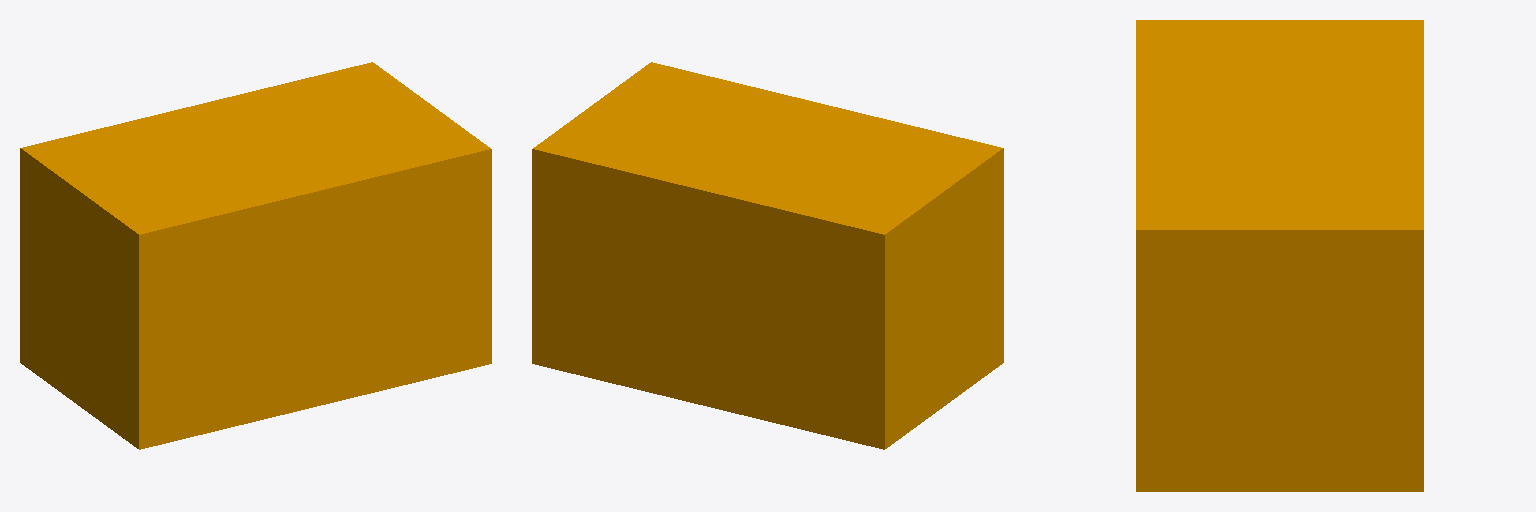
robot.urdf — girona500:
<?xml version="1.0"?>
<robot name="girona500">

  <!-- Base link -->
  <link name="base_link">
    <inertial>
      <mass value="160.0"/>
      <origin xyz="0 0 0" rpy="0 0 0"/>
      <inertia ixx="20.0" ixy="0.0" ixz="0.0" iyy="40.0" iyz="0.0" izz="40.0"/>
    </inertial>
    <visual>
      <origin xyz="0 0 0" rpy="0 0 0"/>
      <geometry>
        <box size="1.2 0.7 0.7"/>
      </geometry>
    </visual>
  </link>

  <!-- Thruster links -->
  <link name="thruster_surge_port"/>
  <joint name="thruster_surge_port_joint" type="fixed">
    <parent link="base_link"/>
    <child link="thruster_surge_port"/>
    <origin xyz="-0.3297 -0.2587 -0.021" rpy="3.1416 0.0 0.0"/>
  </joint>

  <link name="thruster_surge_starboard"/>
  <joint name="thruster_surge_starboard_joint" type="fixed">
    <parent link="base_link"/>
    <child link="thruster_surge_starboard"/>
    <origin xyz="-0.3297 0.2587 -0.021" rpy="0.0 0.0 0.0"/>
  </joint>

  <link name="thruster_heave_bow"/>
  <joint name="thruster_heave_bow_joint" type="fixed">
    <parent link="base_link"/>
    <child link="thruster_heave_bow"/>
    <origin xyz="0.5347 0.0 -0.3137" rpy="0.0 -1.571 -1.571"/>
  </joint>

  <link name="thruster_heave_stern"/>
  <joint name="thruster_heave_stern_joint" type="fixed">
    <parent link="base_link"/>
    <child link="thruster_heave_stern"/>
    <origin xyz="-0.5827 0.0 -0.3137" rpy="0.0 -1.571 1.571"/>
  </joint>

  <link name="thruster_sway"/>
  <joint name="thruster_sway_joint" type="fixed">
    <parent link="base_link"/>
    <child link="thruster_sway"/>
    <origin xyz="-0.0627 0.0307 -0.021" rpy="0.0 3.1416 1.571"/>
  </joint>

</robot>

--- Facts derived from the render (not from the file) ---
Views: 3 orthographic renders of the robot side by side, from view 1: azimuth 30°, elevation 25°; view 2: azimuth 150°, elevation 25°; view 3: azimuth 270°, elevation 25°.
Robot: girona500 — 6 links, 5 joints (5 fixed); root link base_link; default pose: all joints at 0.
Links seen in each view (by area): view 1: base_link; view 2: base_link; view 3: base_link.
Link boxes in pixels (bbox=[...]): base_link: bbox=[20, 62, 491, 449]; base_link: bbox=[532, 62, 1003, 449]; base_link: bbox=[1136, 20, 1423, 491].
Size in the robot's own frame: 1.2 by 0.7 by 0.7 metres.
Geometry: primitives only (box / cylinder / sphere), no mesh files.